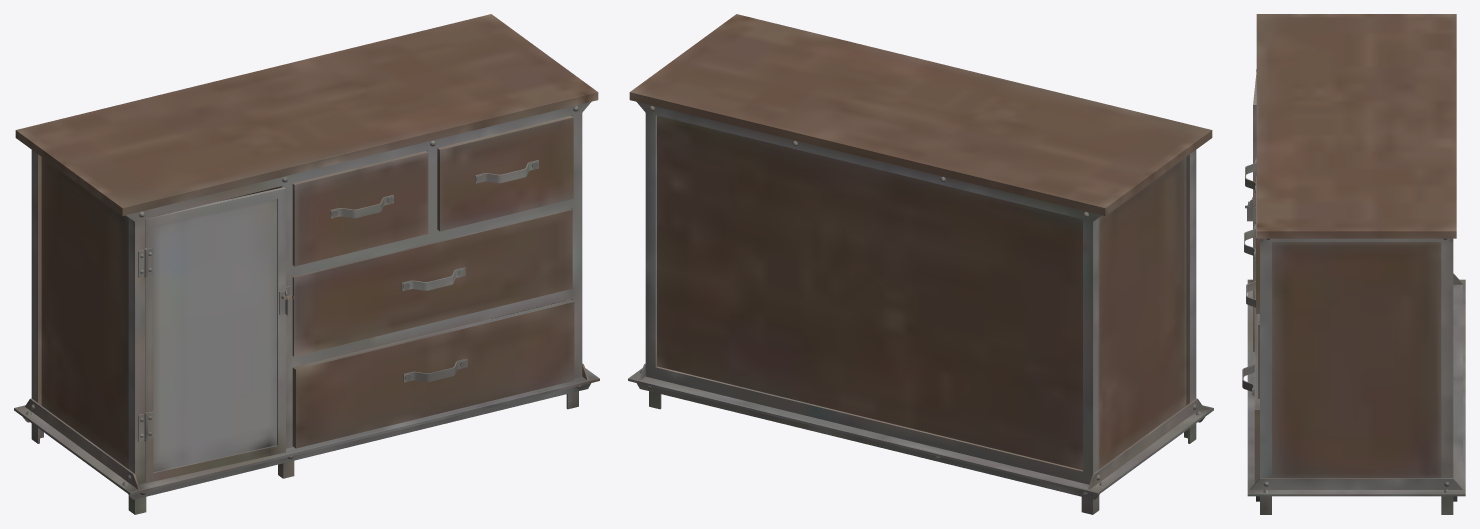
Rendered from WoodenTable_03.glb.
The picture shows the model from 3 angles, left to right: view 1: azimuth 30°, elevation 25°; view 2: azimuth 150°, elevation 25°; view 3: azimuth 270°, elevation 25°; orthographic projection. The views are drawn at different scales.
Visible parts, largest first — view 1: WoodenTable_03_body, WoodenTable_03_door, WoodenTable_03_drawer04, WoodenTable_03_drawer03, WoodenTable_03_drawer02, WoodenTable_03_drawer01; view 2: WoodenTable_03_body; view 3: WoodenTable_03_body, WoodenTable_03_drawer04, WoodenTable_03_door, WoodenTable_03_drawer02, WoodenTable_03_drawer03.
Part boxes in pixels (bbox=[...]): WoodenTable_03_body: bbox=[14, 14, 599, 514]; WoodenTable_03_door: bbox=[144, 187, 293, 483]; WoodenTable_03_drawer04: bbox=[292, 299, 574, 448]; WoodenTable_03_drawer03: bbox=[292, 209, 572, 356]; WoodenTable_03_drawer02: bbox=[437, 115, 573, 231]; WoodenTable_03_drawer01: bbox=[292, 151, 428, 266]; WoodenTable_03_body: bbox=[628, 14, 1213, 514]; WoodenTable_03_body: bbox=[1247, 14, 1465, 514]; WoodenTable_03_drawer04: bbox=[1242, 289, 1259, 483]; WoodenTable_03_door: bbox=[1245, 69, 1256, 351]; WoodenTable_03_drawer02: bbox=[1244, 176, 1259, 313]; WoodenTable_03_drawer03: bbox=[1246, 281, 1259, 398].
Size of the model in its own units: 1.33 by 0.83 by 0.5753.
Materials: 1 (1 with a texture image).
